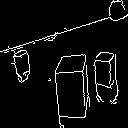cube: (47, 44, 91, 128), (91, 44, 122, 96), (10, 43, 33, 84)
